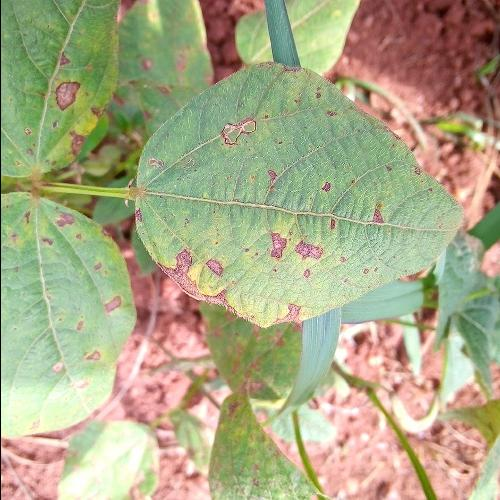hawar: (147, 234, 252, 318), (209, 91, 267, 172), (264, 222, 336, 278), (45, 46, 86, 124), (367, 206, 390, 232)
